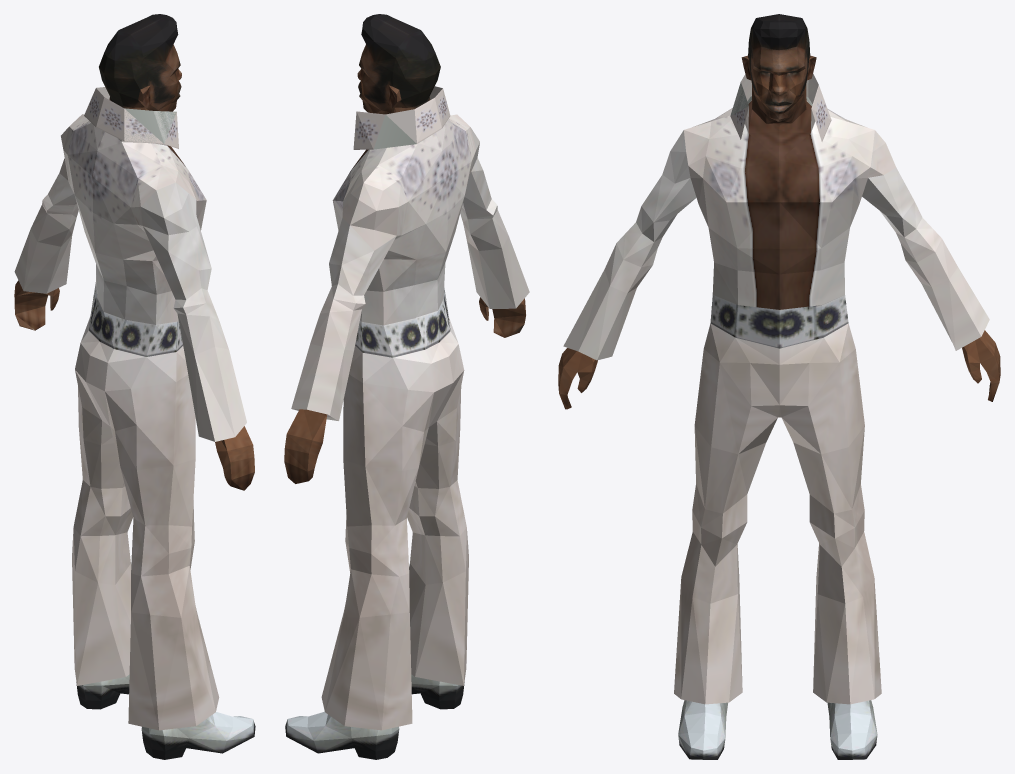
Rendered from vbmyelv.obj.
3 views of the same model, side by side, from view 1: azimuth 30°, elevation 25°; view 2: azimuth 150°, elevation 25°; view 3: azimuth 270°, elevation 25° (orthographic). The views are drawn at different scales.
Visible parts, largest first — view 1: _Pelvis; view 2: _Pelvis; view 3: _Pelvis.
Boxes of the visible parts, x1,y1,x2,y2 form: _Pelvis: (14,14,255,759); _Pelvis: (284,14,529,759); _Pelvis: (558,14,1000,759).
Size of the model in its own units: 0.3674 by 1.87 by 1.04.
Materials: 1 (1 with a texture image).
